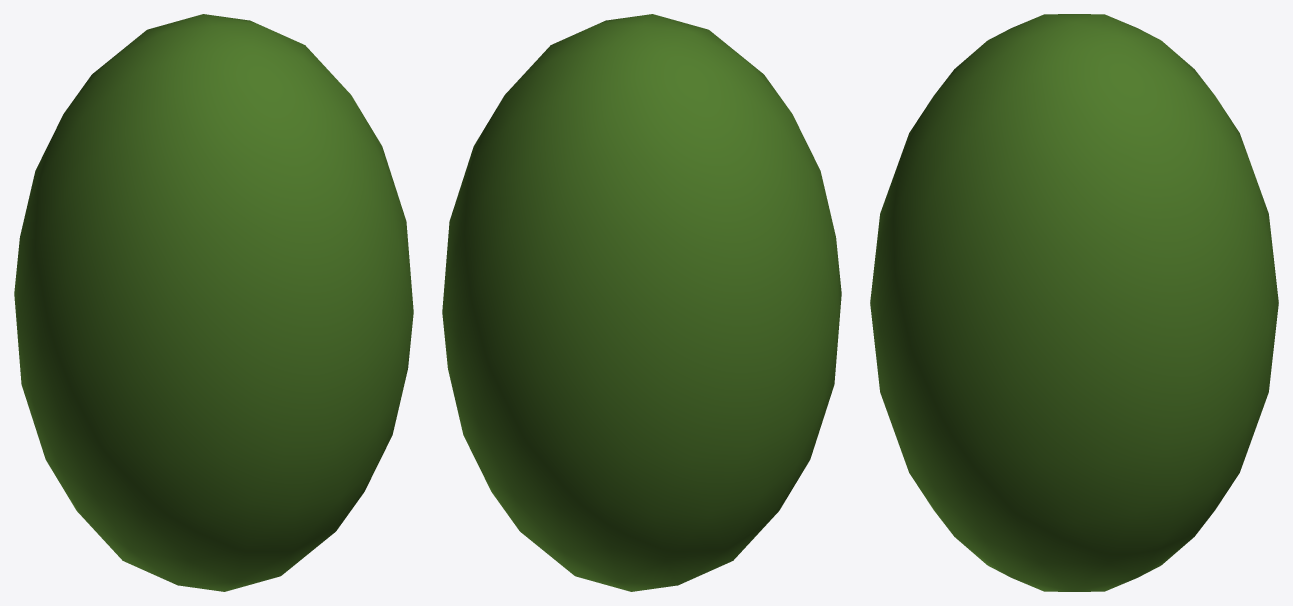
The model's file is AlienEgg.fbx.
3 views of the same model, side by side, from view 1: azimuth 30°, elevation 25°; view 2: azimuth 150°, elevation 25°; view 3: azimuth 270°, elevation 25° (orthographic).
Parts seen in each view (by area): view 1: Icosphere; view 2: Icosphere; view 3: Icosphere.
Boxes of the visible parts, x1,y1,x2,y2 form: Icosphere: [14, 14, 413, 591]; Icosphere: [442, 14, 841, 591]; Icosphere: [870, 14, 1278, 591].
Bounding box in the file's own units: 142 × 217 × 143.
